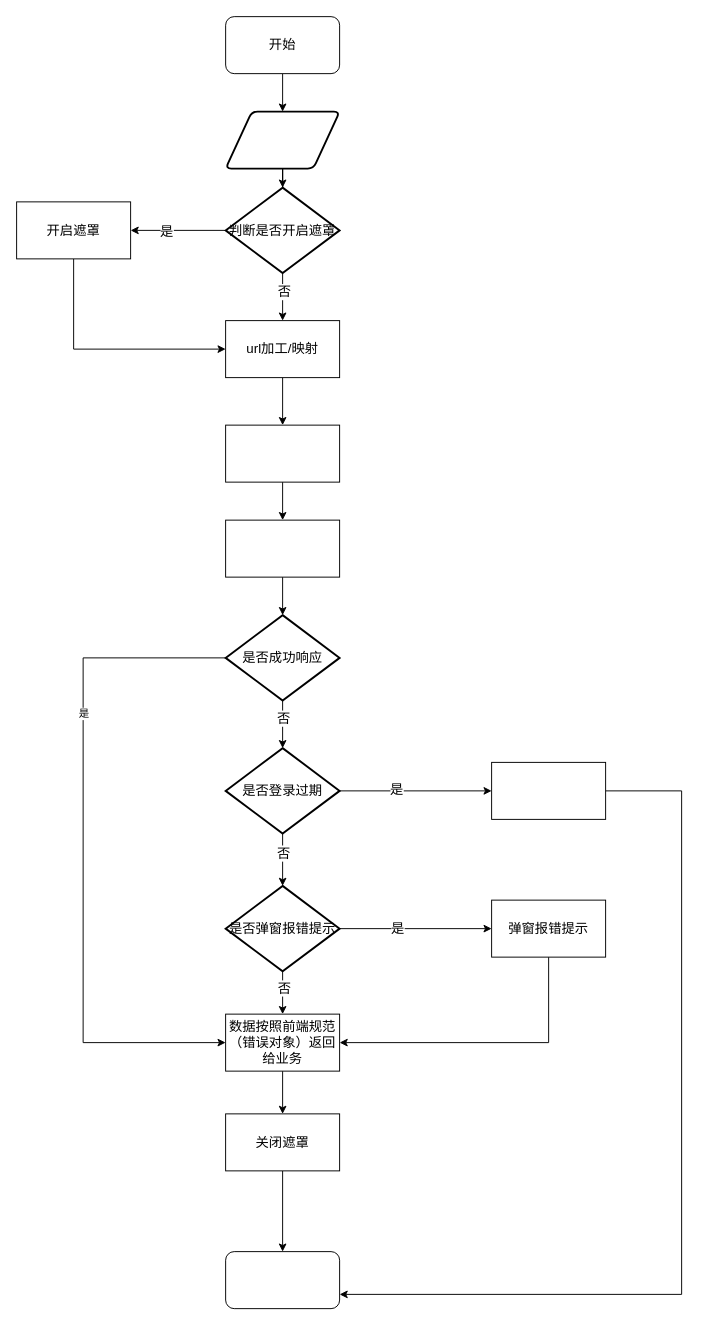
The diagram is 706 pixels wide and 1325 high, and some of its shapes have lost their labels. The centre of each missing label's shape, as x and y in pixels:
"data加工（转换成符合api规范格式）" goes at (x=282, y=453).
"结束" goes at (x=282, y=1280).
"调用原生axios发送请求" goes at (x=282, y=548).
"输入url, data, config" goes at (x=282, y=139).
"返回登录页" goes at (x=548, y=790).
